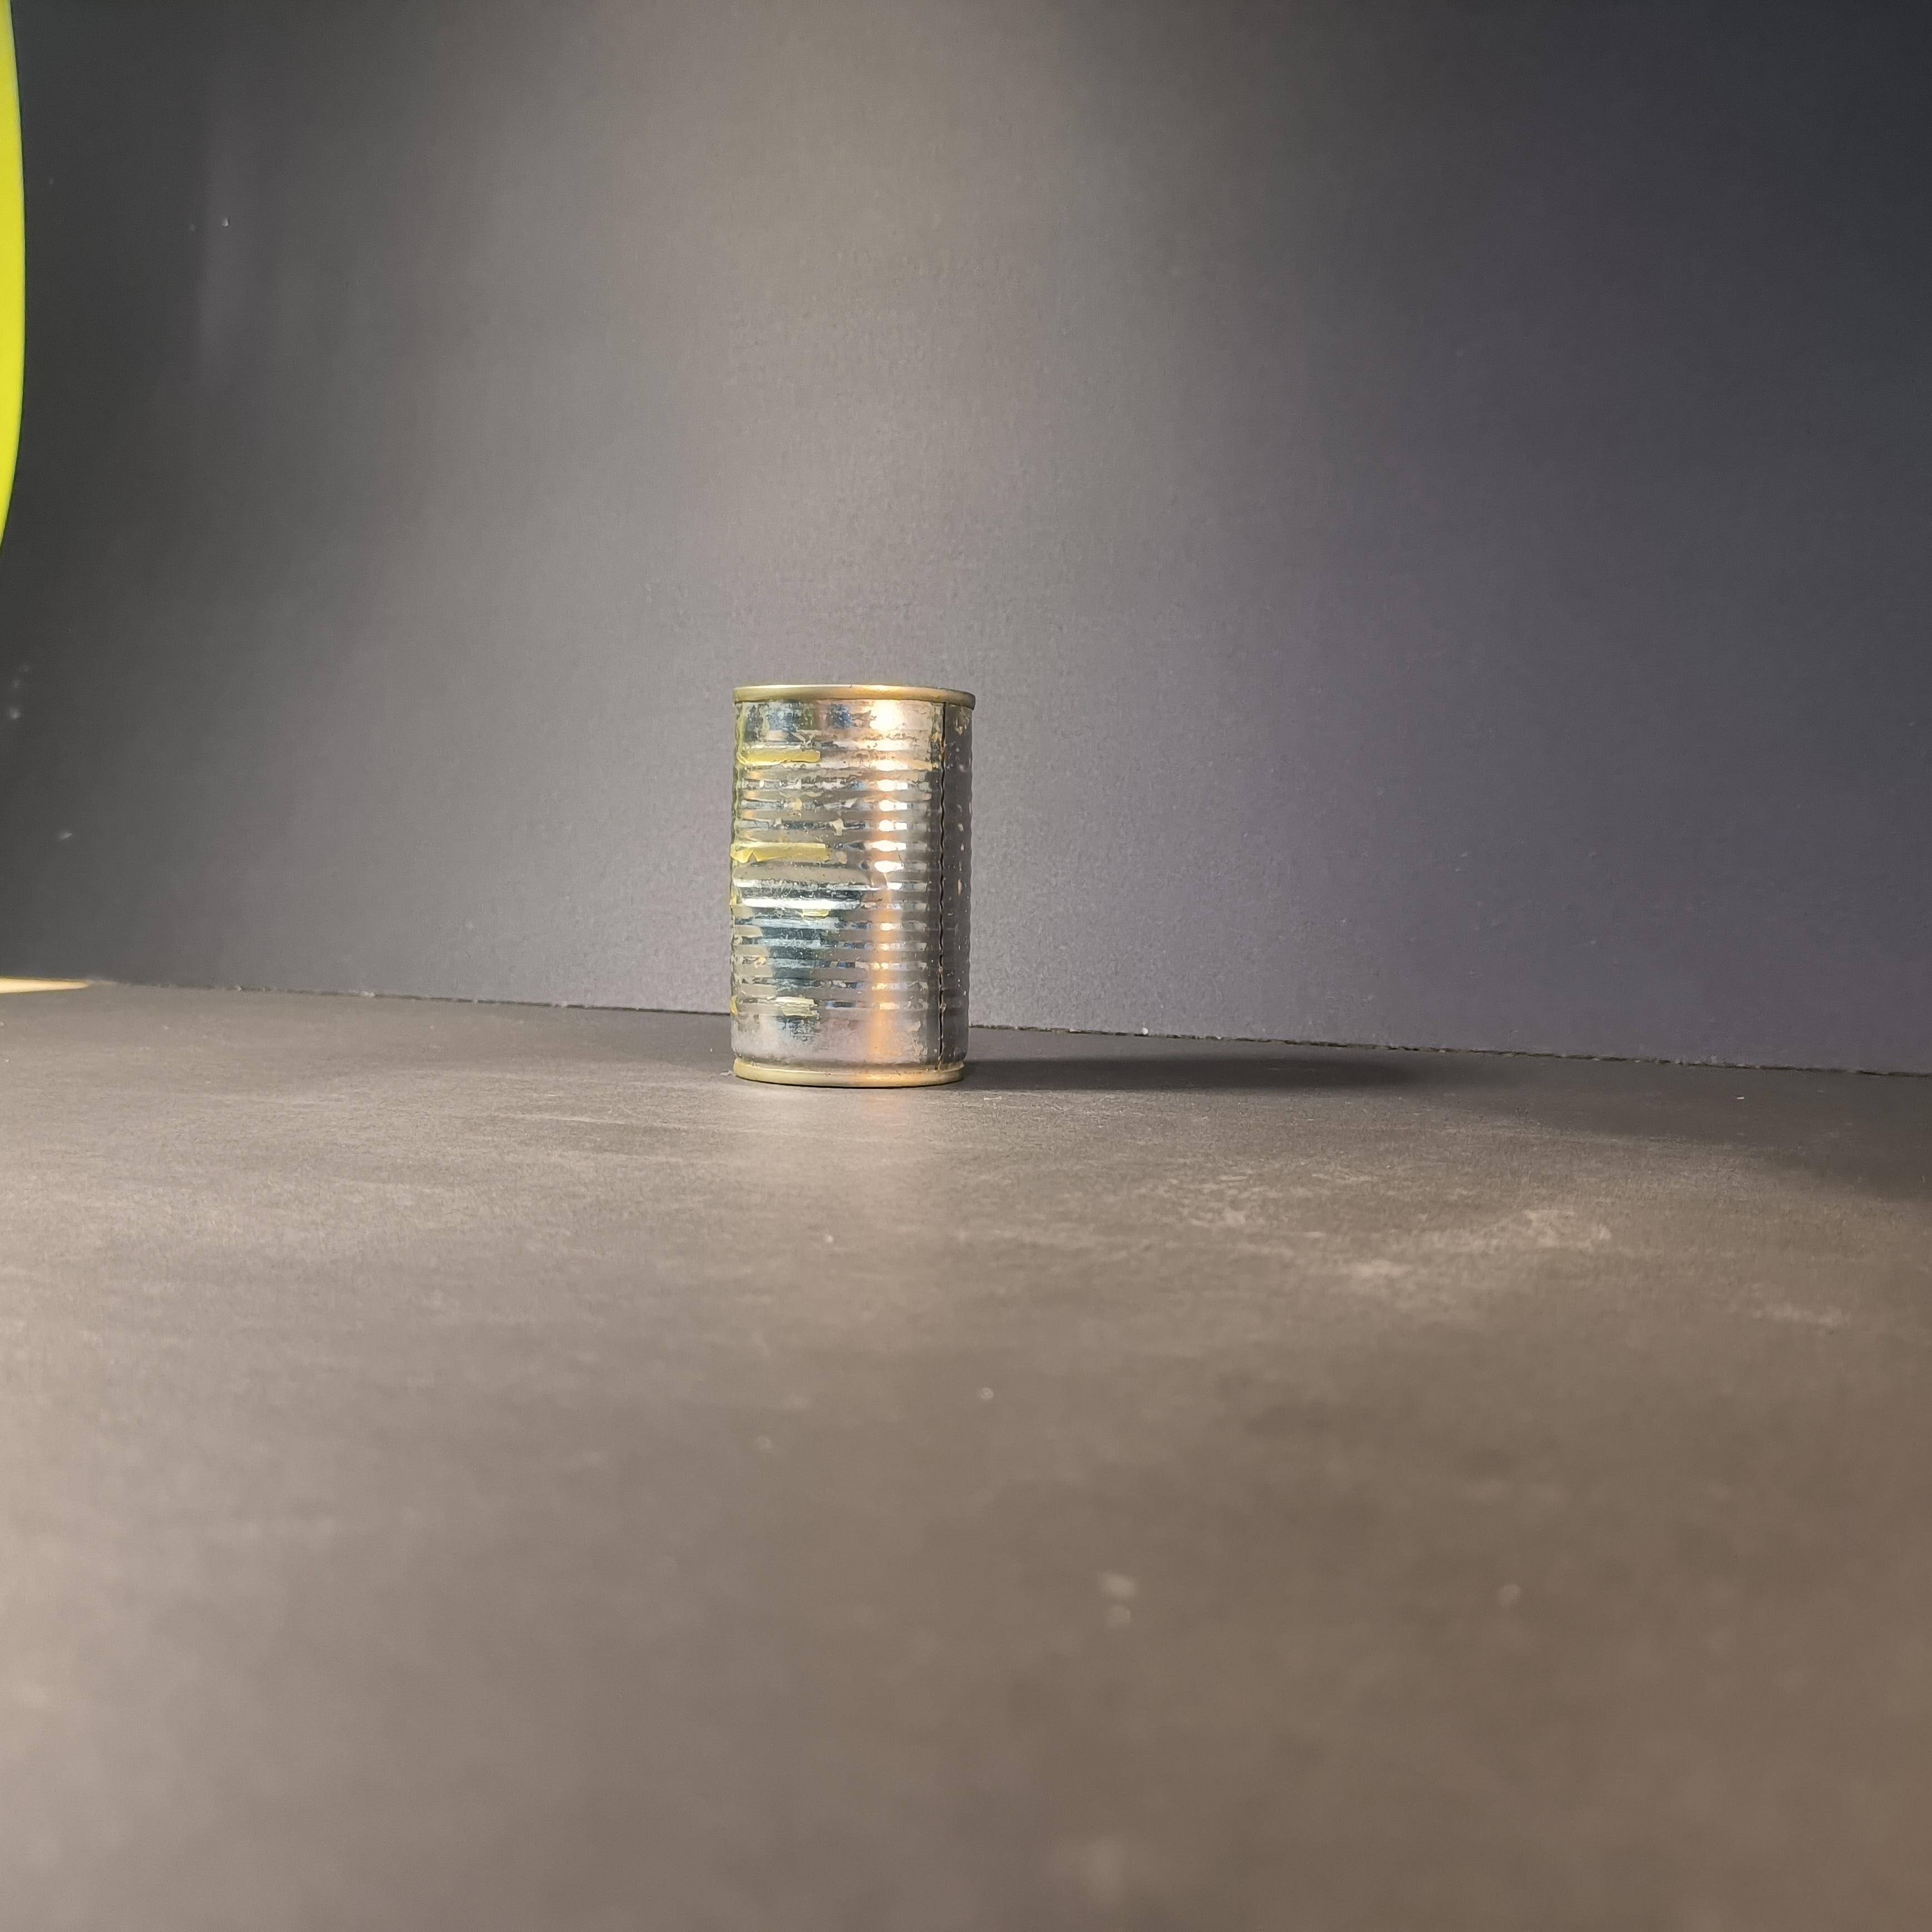Dented: (720, 656, 993, 1108)
